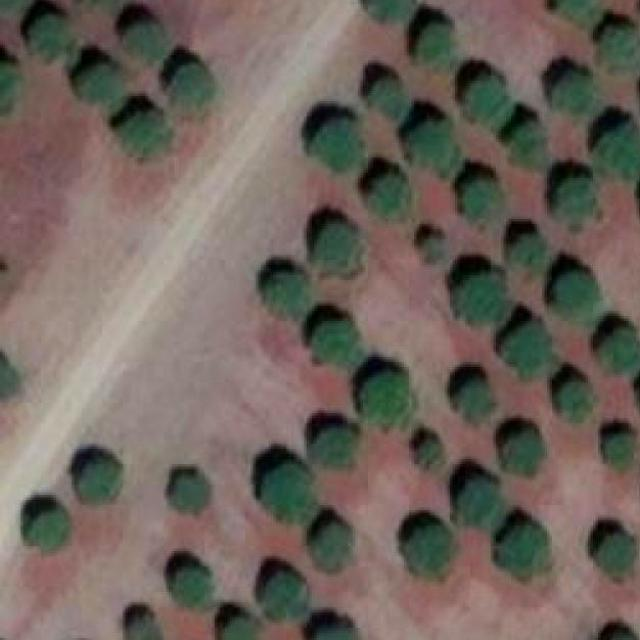Tree: (450, 273, 511, 329), (399, 122, 458, 178), (496, 524, 550, 578), (501, 321, 555, 375), (547, 270, 606, 319), (266, 464, 317, 520), (307, 316, 363, 367), (168, 62, 214, 122), (499, 232, 553, 283), (361, 374, 417, 423), (555, 173, 601, 232), (118, 110, 168, 164), (399, 524, 453, 574), (593, 125, 640, 181), (455, 72, 506, 121), (314, 224, 363, 273), (261, 574, 312, 620), (312, 120, 363, 166), (306, 520, 352, 570), (26, 12, 72, 61), (450, 478, 499, 524), (307, 421, 358, 465), (411, 18, 450, 74), (463, 181, 509, 227), (166, 474, 212, 520), (598, 21, 640, 70), (166, 564, 212, 608), (260, 270, 306, 314), (591, 329, 640, 370), (76, 64, 126, 104), (550, 66, 594, 111), (120, 24, 166, 66), (511, 121, 550, 170), (368, 176, 409, 220), (80, 459, 124, 500), (26, 510, 70, 549), (506, 428, 542, 474), (368, 74, 407, 114), (601, 534, 637, 574), (455, 380, 491, 416), (555, 380, 591, 416), (361, 0, 417, 22), (552, 0, 598, 25), (124, 614, 166, 640), (0, 63, 20, 117), (223, 617, 264, 640), (601, 434, 632, 464), (0, 357, 20, 401), (414, 439, 443, 469), (417, 234, 443, 263), (310, 627, 361, 640), (601, 622, 637, 640), (636, 370, 640, 421)
